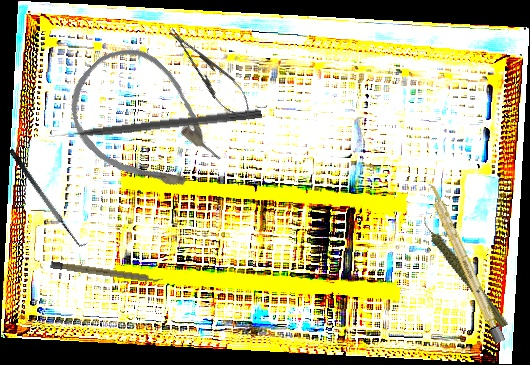Cannula: (49, 30, 241, 219)
Handpiece: (420, 203, 510, 340)
Needle Holder: (160, 20, 262, 128)
Pusher: (47, 106, 263, 142)
Scalpel Handle: (424, 180, 506, 345), (50, 261, 163, 284)
Spatula Surgical: (8, 142, 89, 252)
